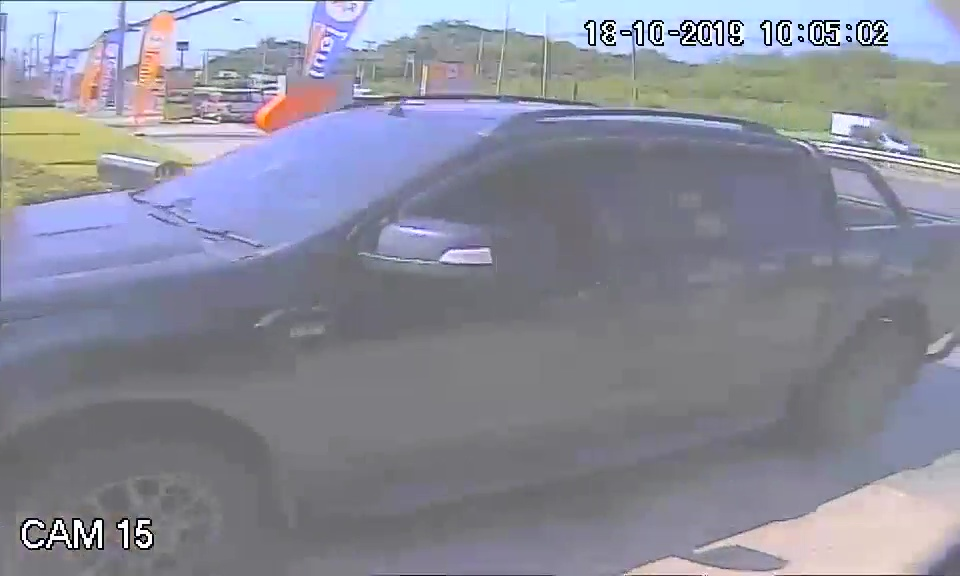pickup: (12, 92, 960, 512)
